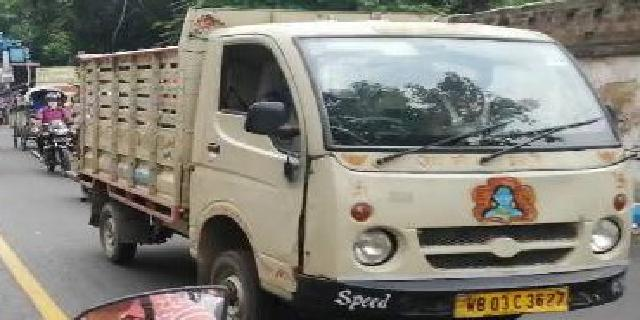Minitruck: (71, 2, 632, 313)
Motorbike: (29, 95, 75, 176)
